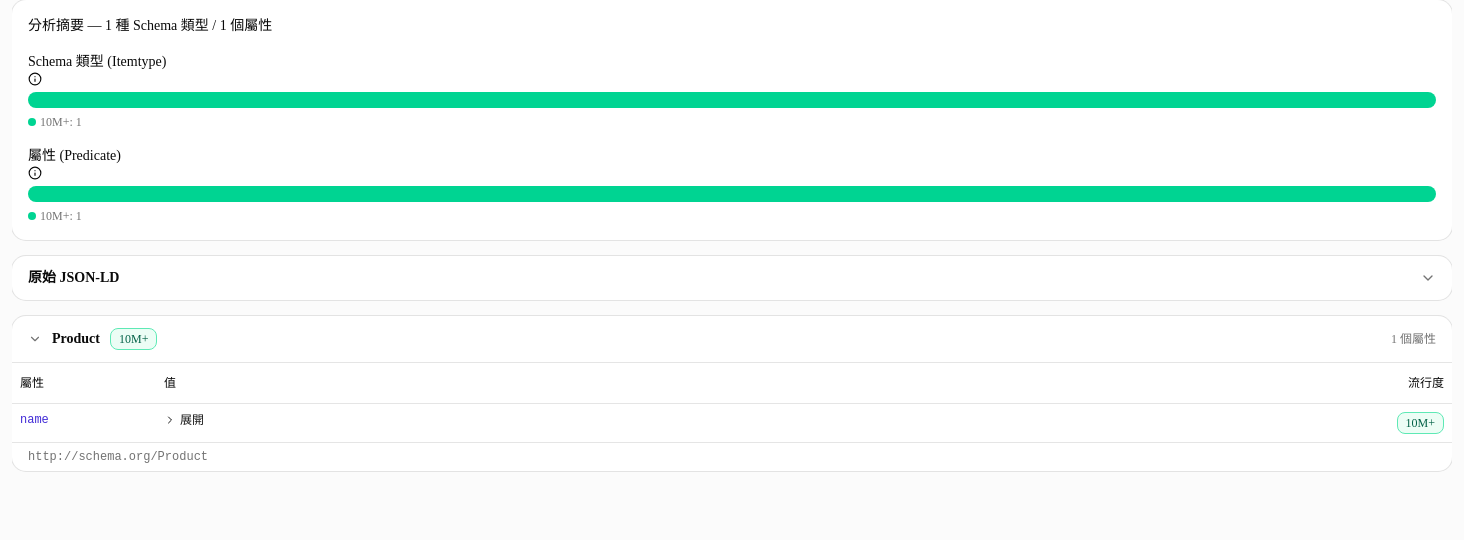
Test: RawBlocks toggle › shows raw blocks after clicking the toggle
Click the button "原始 JSON-LD". click: (74, 278)
box: [12,256,1452,300]
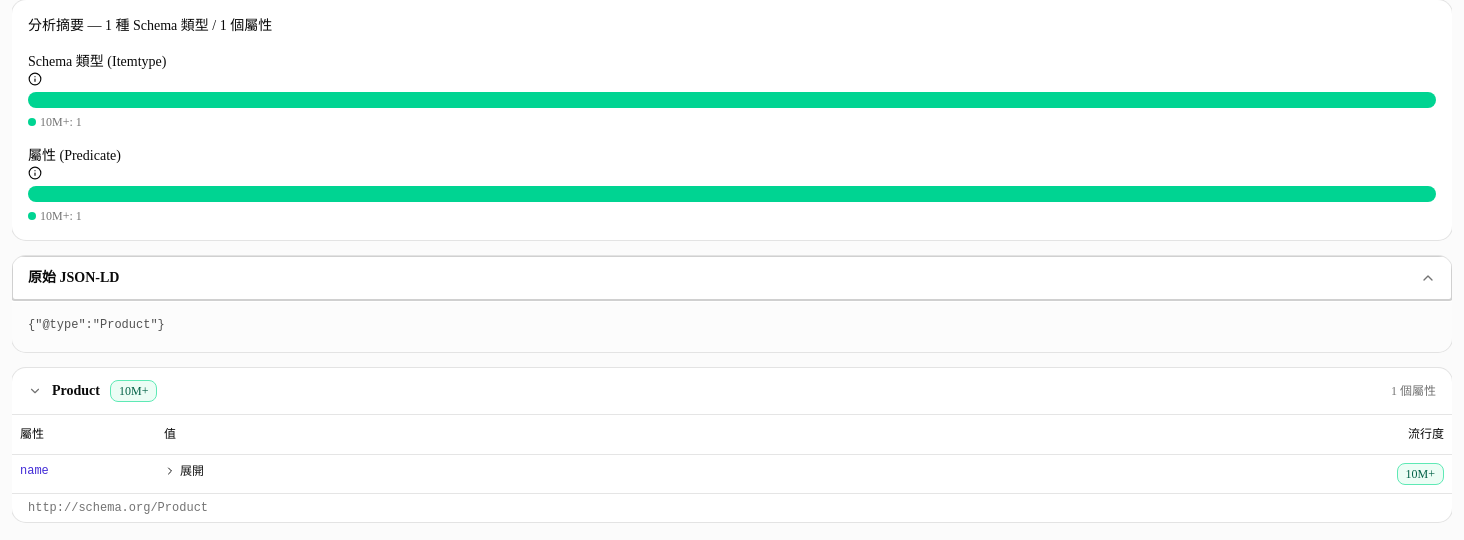
Now the text "{\"@type\":\"Product\"}" is shown, box [12,300,1452,352]
